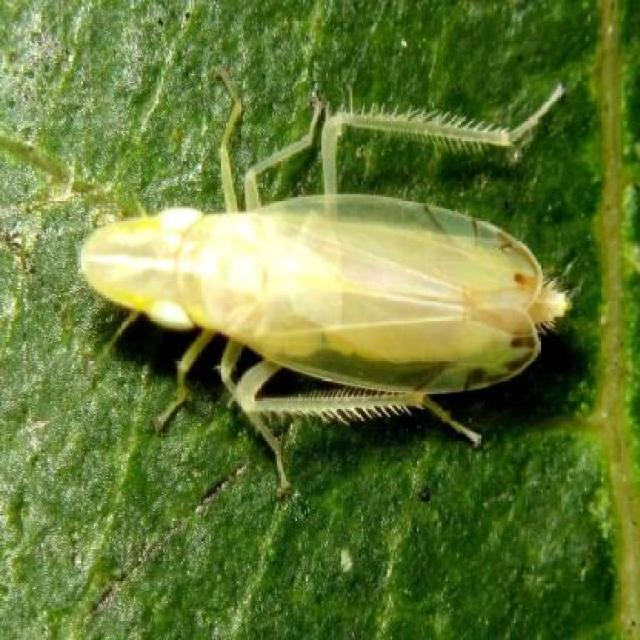green-leafhopper: (82, 192, 556, 406)
